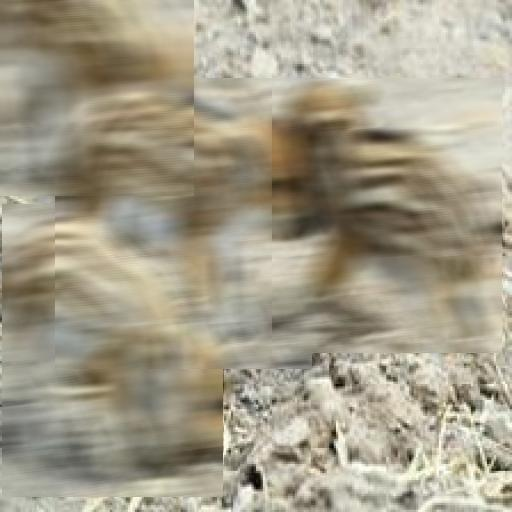Pig: (55, 78, 312, 369), (2, 204, 223, 497), (272, 78, 502, 353), (0, 0, 194, 196)
